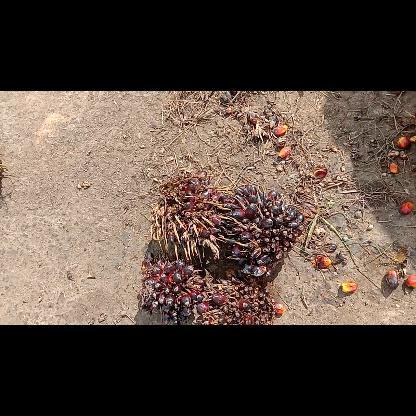TBS abnormal: (222, 185, 304, 275), (150, 171, 230, 260), (138, 250, 204, 324), (197, 268, 275, 324)
